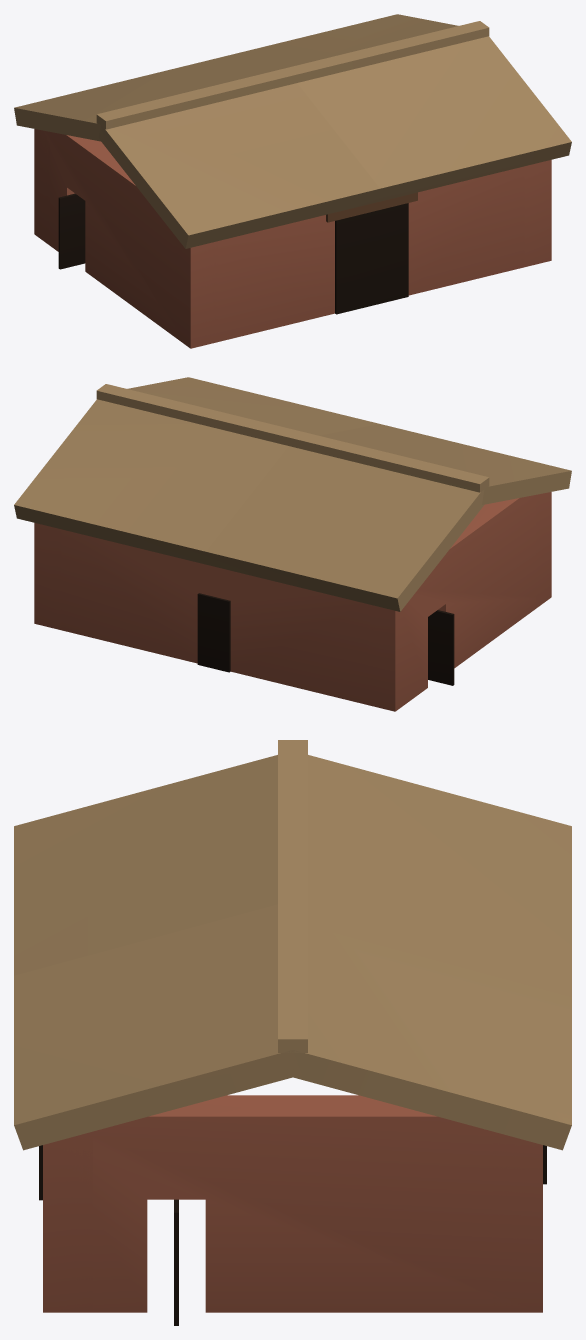
File: republic_magazine_lod1.glb
3 views of the same model, one above another, from view 1: azimuth 30°, elevation 25°; view 2: azimuth 150°, elevation 25°; view 3: azimuth 270°, elevation 25° (orthographic). The views are drawn at different scales.
Visible parts, largest first — view 1: GEO-Arch_republic_magazine_LOD1; view 2: GEO-Arch_republic_magazine_LOD1; view 3: GEO-Arch_republic_magazine_LOD1.
Boxes of the visible parts, left/top/right/bottom form: GEO-Arch_republic_magazine_LOD1: left=14, top=14, right=571, bottom=348; GEO-Arch_republic_magazine_LOD1: left=14, top=377, right=571, bottom=711; GEO-Arch_republic_magazine_LOD1: left=14, top=740, right=571, bottom=1325.
Size of the model in its own units: 8.74 by 3.74 by 6.7.
